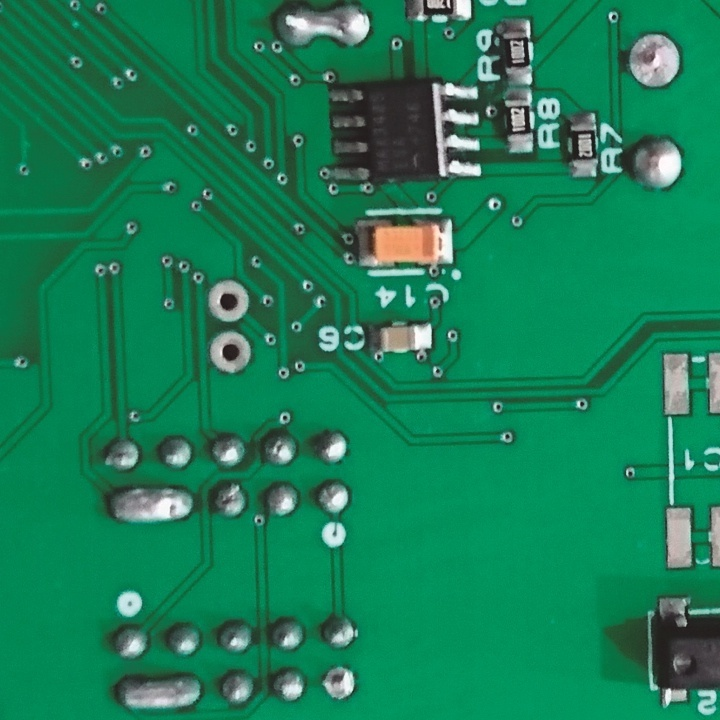F: (624, 30, 685, 94), (206, 328, 253, 380), (207, 278, 250, 327), (321, 666, 358, 703)
P: (271, 1, 374, 53), (105, 482, 195, 529), (114, 669, 204, 715)
